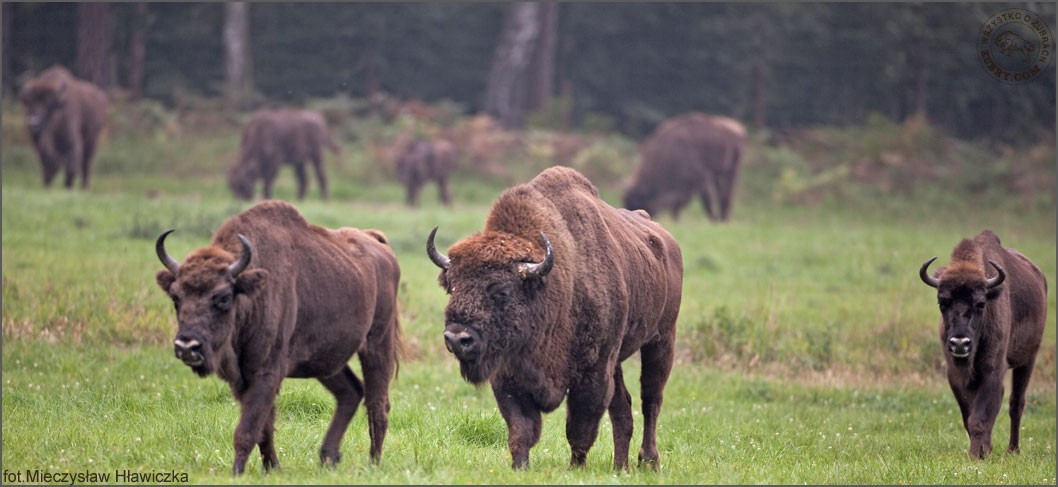zubr: (422, 154, 766, 487), (130, 178, 418, 487), (902, 204, 1053, 487), (592, 94, 778, 260), (196, 82, 398, 230), (16, 48, 140, 192)
